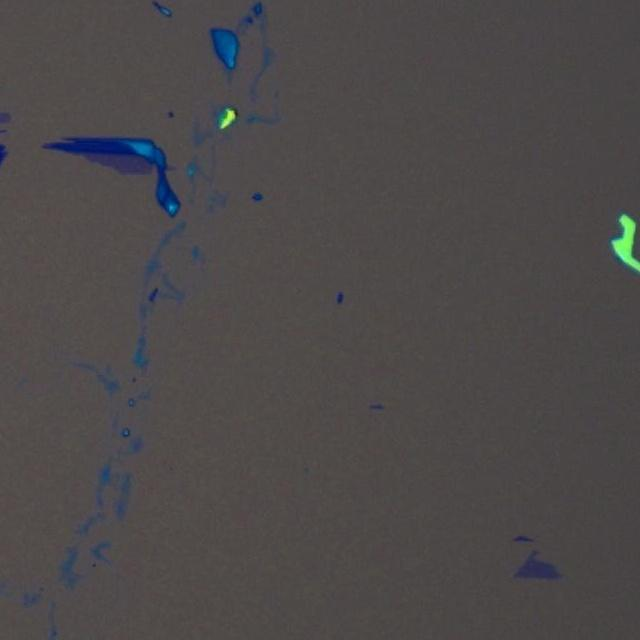monolayer-eWW4: (85, 152, 155, 177)
